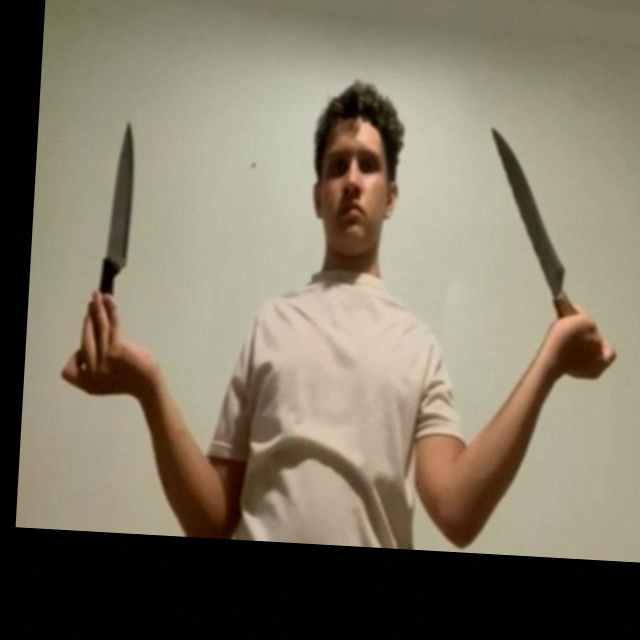Sharp-Object: (484, 129, 574, 288), (105, 120, 138, 265)
